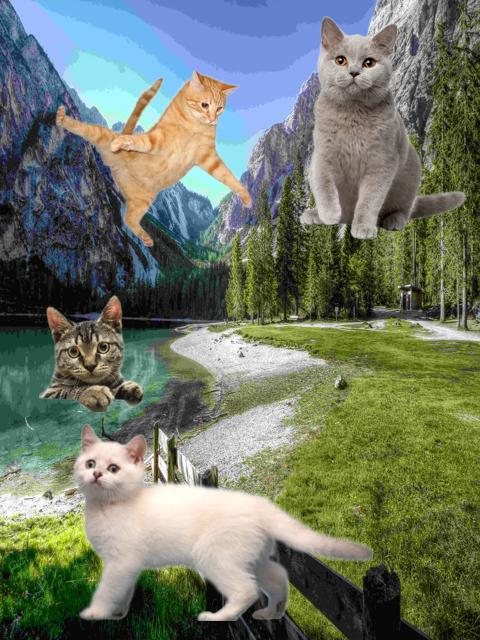cat: (54, 421, 371, 619), (270, 15, 474, 238), (57, 72, 252, 246), (41, 296, 141, 410)
